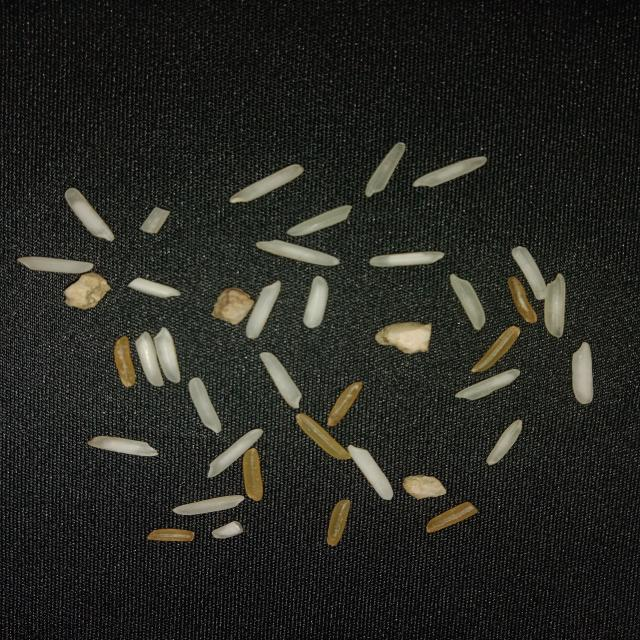Broken: (295, 413, 352, 460), (472, 326, 520, 374), (425, 501, 478, 533), (327, 382, 364, 426), (508, 276, 538, 324), (304, 274, 329, 328), (127, 277, 181, 298), (327, 499, 351, 546), (243, 448, 263, 502), (115, 336, 136, 387), (140, 206, 171, 234), (146, 528, 194, 542), (212, 520, 245, 538)
Full: (228, 164, 305, 203), (65, 187, 116, 242), (207, 427, 263, 476), (348, 445, 394, 499), (256, 238, 340, 267), (412, 156, 488, 188), (260, 352, 302, 409), (366, 142, 406, 197), (246, 280, 283, 339), (450, 274, 486, 330), (286, 206, 352, 236), (511, 246, 546, 302), (188, 378, 222, 433), (486, 418, 524, 465), (136, 330, 164, 387), (154, 326, 180, 384), (86, 436, 159, 456), (172, 495, 245, 515), (571, 342, 594, 405), (545, 273, 566, 338), (17, 257, 95, 274), (368, 251, 445, 267)
